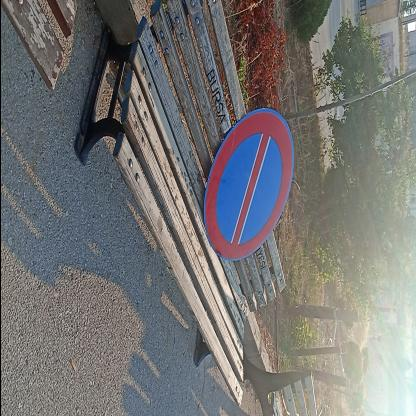No Waiting: (205, 109, 295, 261)
